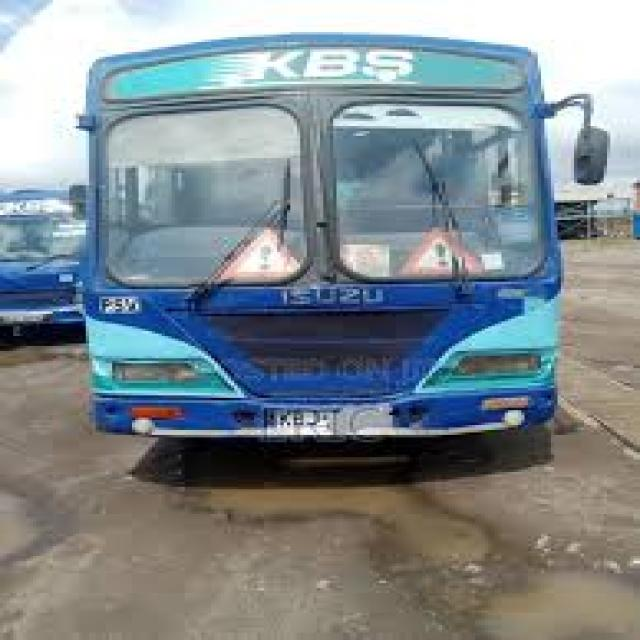bus: (40, 5, 624, 509)
